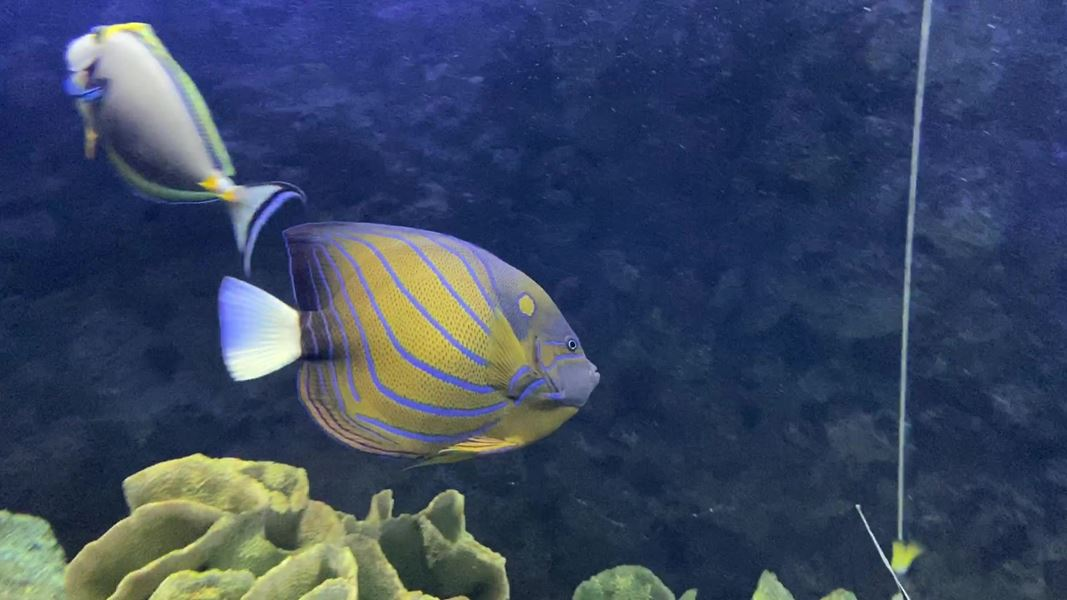Blue ring angelfish: (193, 201, 613, 494)
